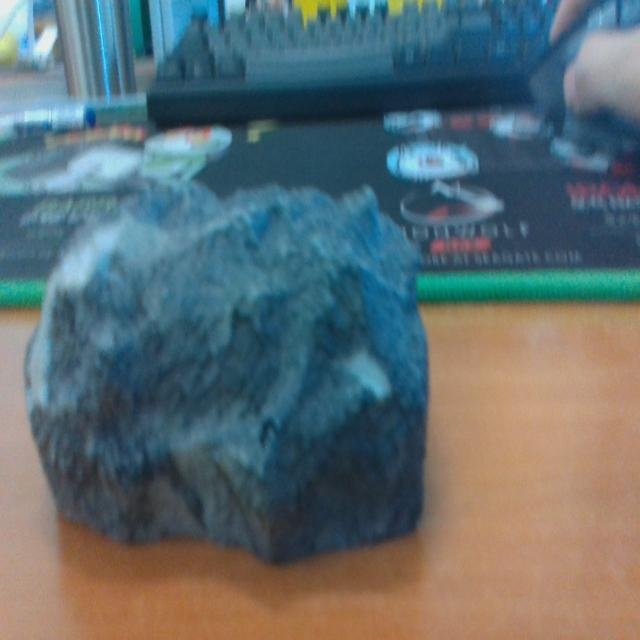stone: (22, 182, 430, 571)
